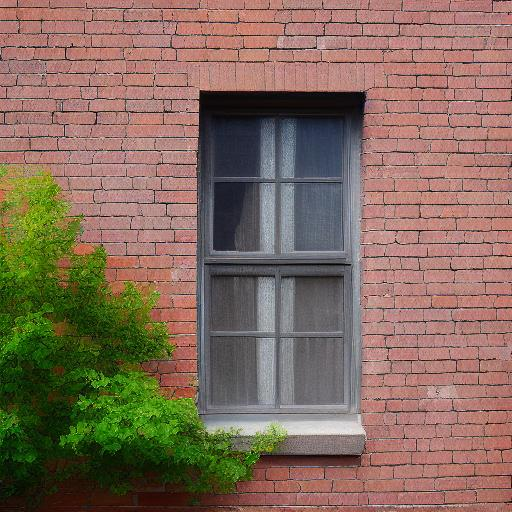Window: (194, 62, 371, 464)
